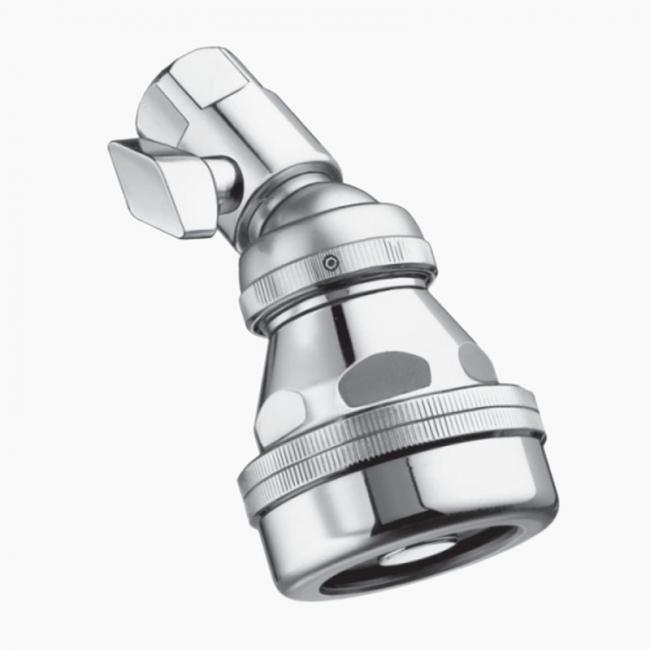Ducha: (105, 12, 577, 599)
